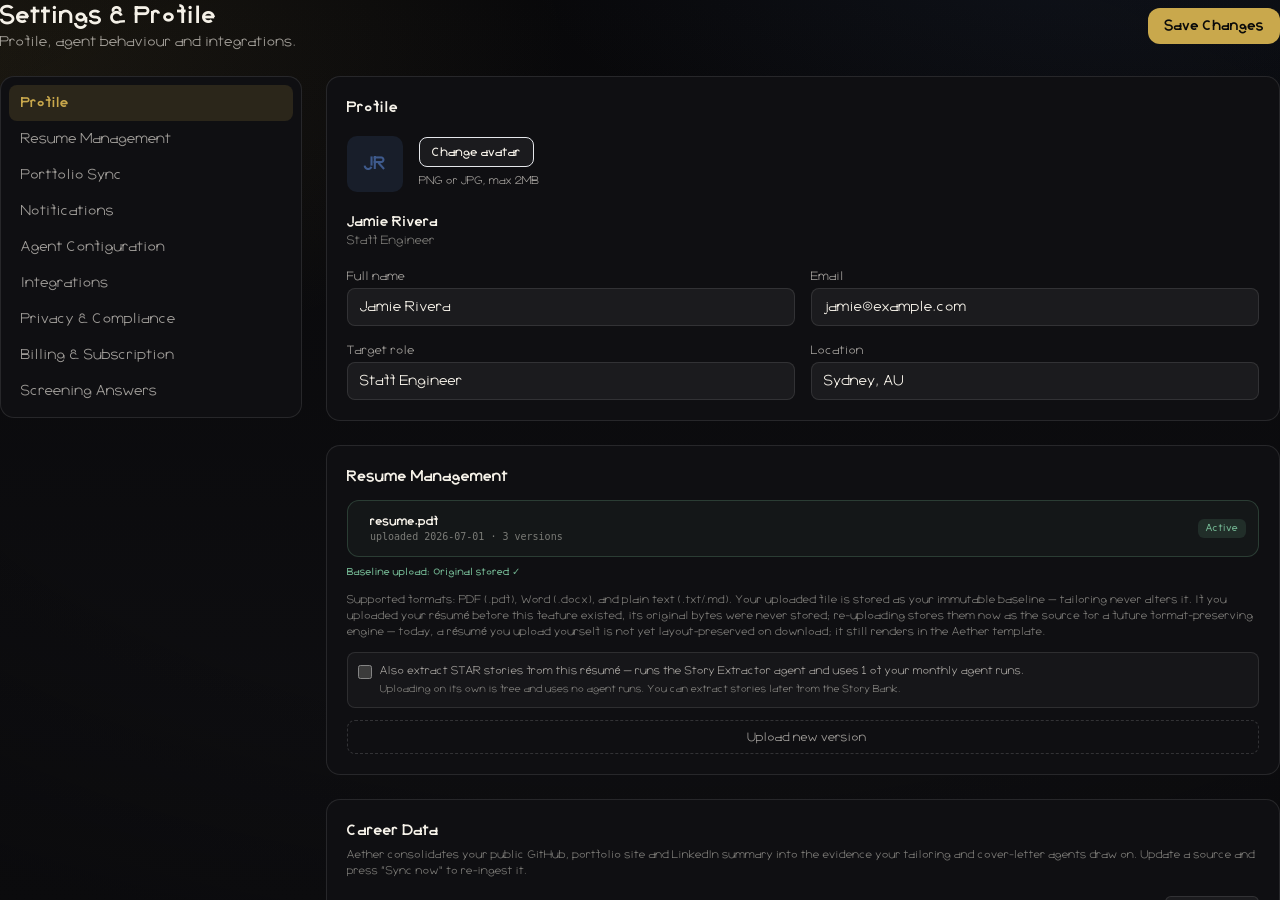
Scenario: SettingsPage — Notifications tab has no stub toggles or 'Coming soon' copy (GOLD-MASTER-V2 G-B/G-O) › renders none of the three former notification preference toggles
Click the button with test id "settings-nav-notifications" at (67, 211), box top-left (9, 193), bottom-right (293, 229)
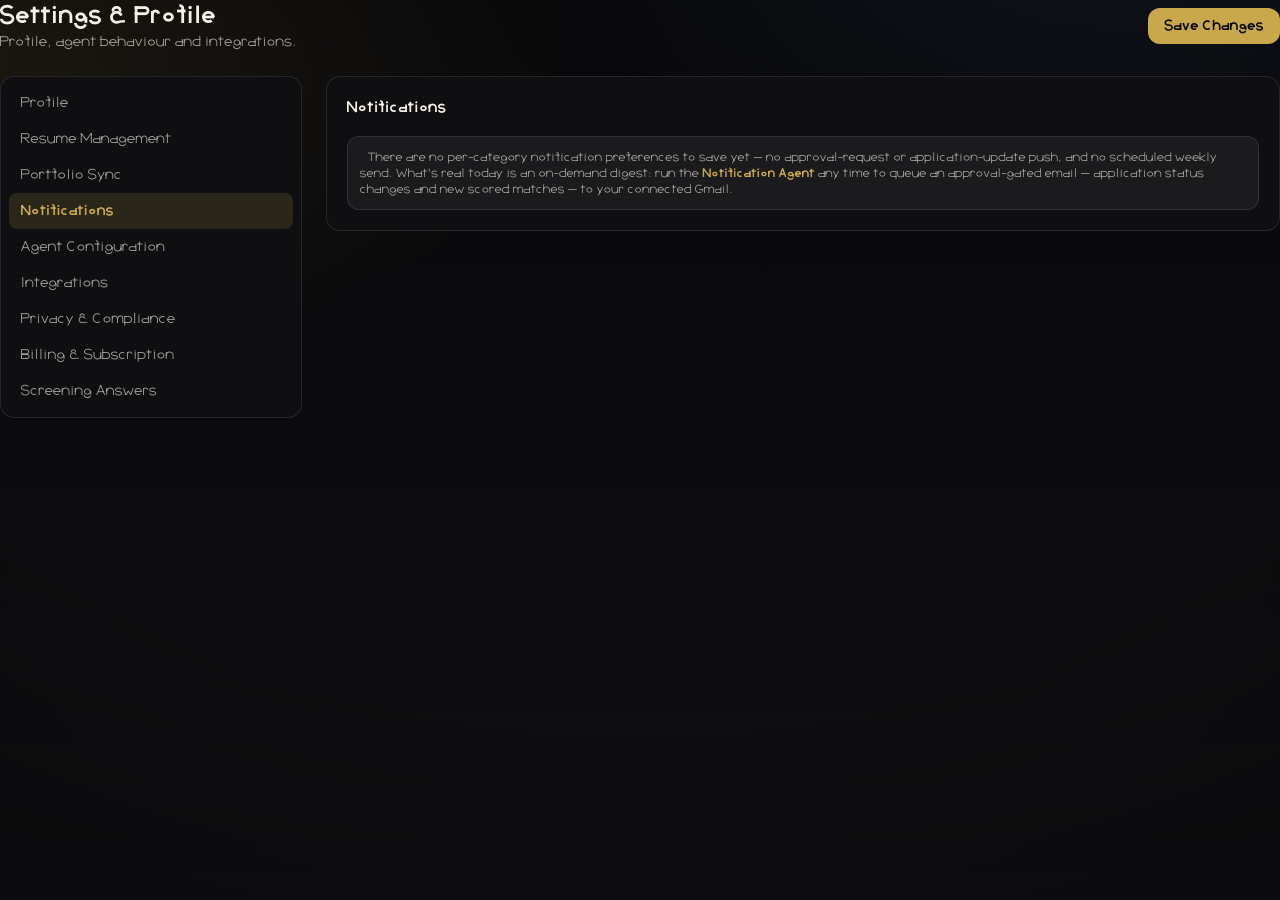
Now the element with test id "settings-notifications" is shown, box top-left (326, 76), bottom-right (1279, 230)
